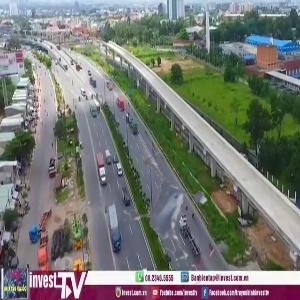drone: (119, 163, 237, 281)
